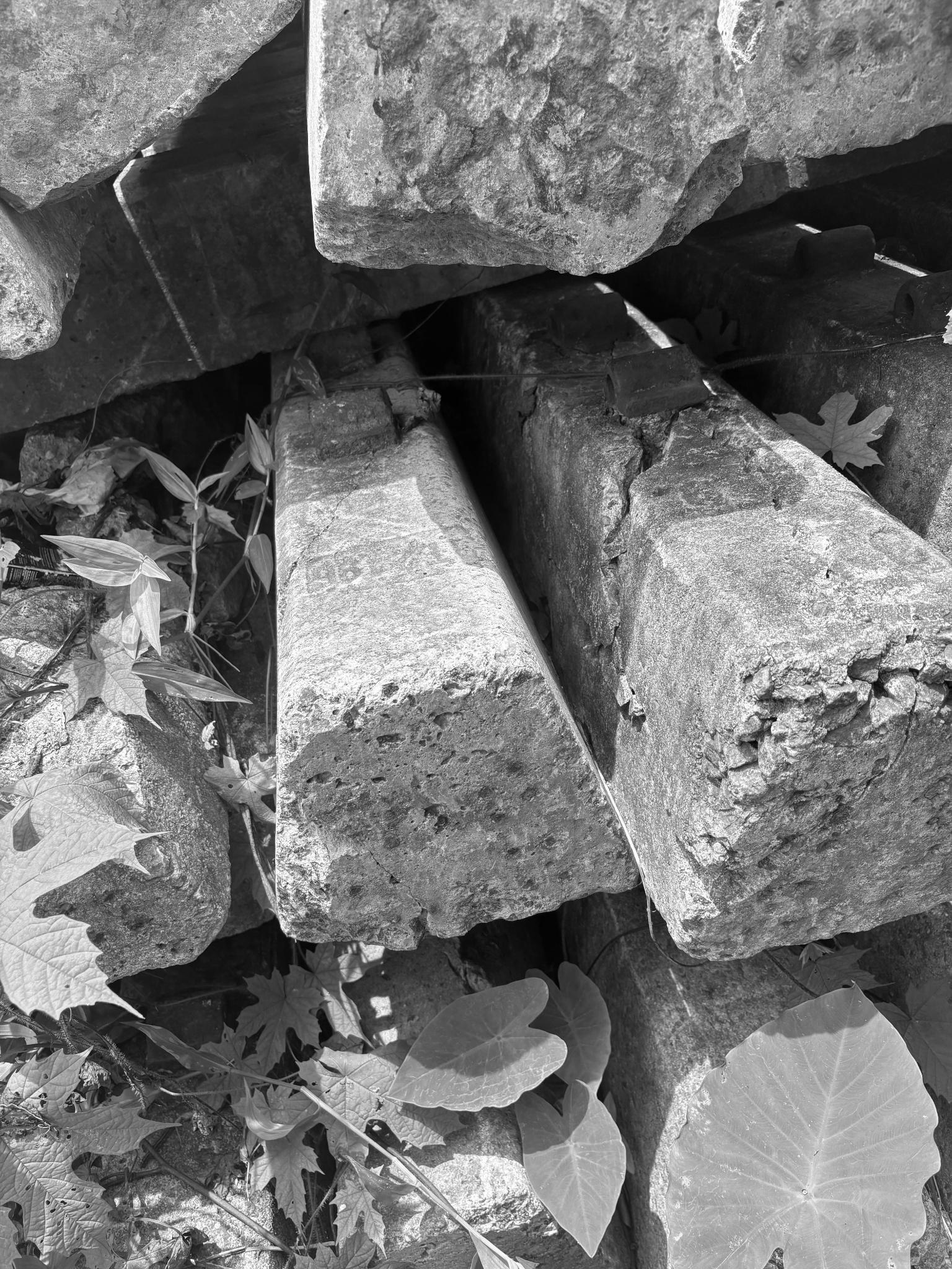cracks under rail seat: (659, 632, 952, 940), (677, 375, 881, 630), (235, 409, 419, 651), (581, 376, 696, 749), (278, 774, 470, 965), (512, 314, 631, 375)
